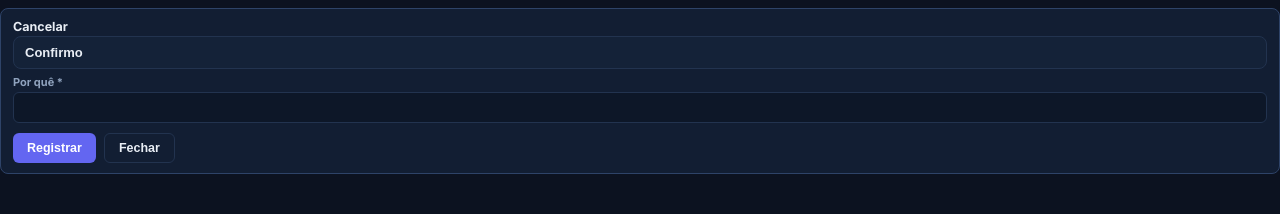
EscolhaRegistro — a escolha mora na tela › 🔴 motivo obrigatório: não grava em branco, e explica a consequência
Click the button "Confirmo" at coordinates (54, 52), box left=13, top=36, right=1267, bottom=69
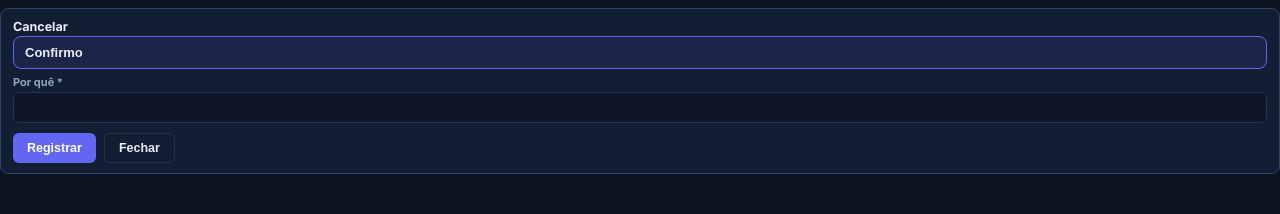
Click the button "Registrar" at coordinates (54, 148), box left=13, top=133, right=96, bottom=163
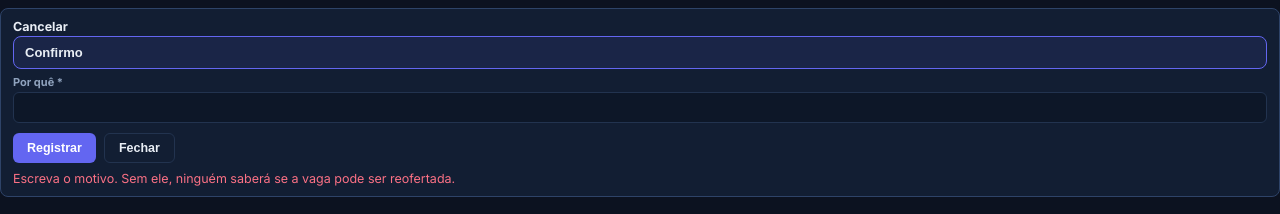
Result: the message shows "reofertada" at left=13, top=171, right=455, bottom=186
